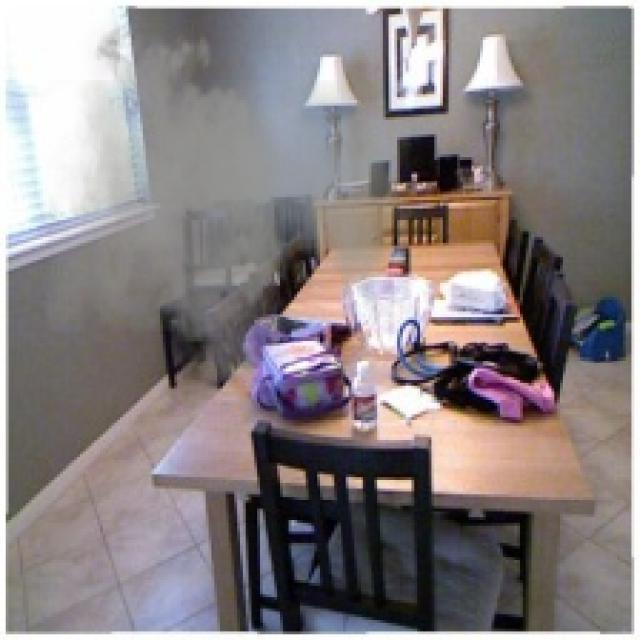Smoke: (46, 11, 412, 400)
